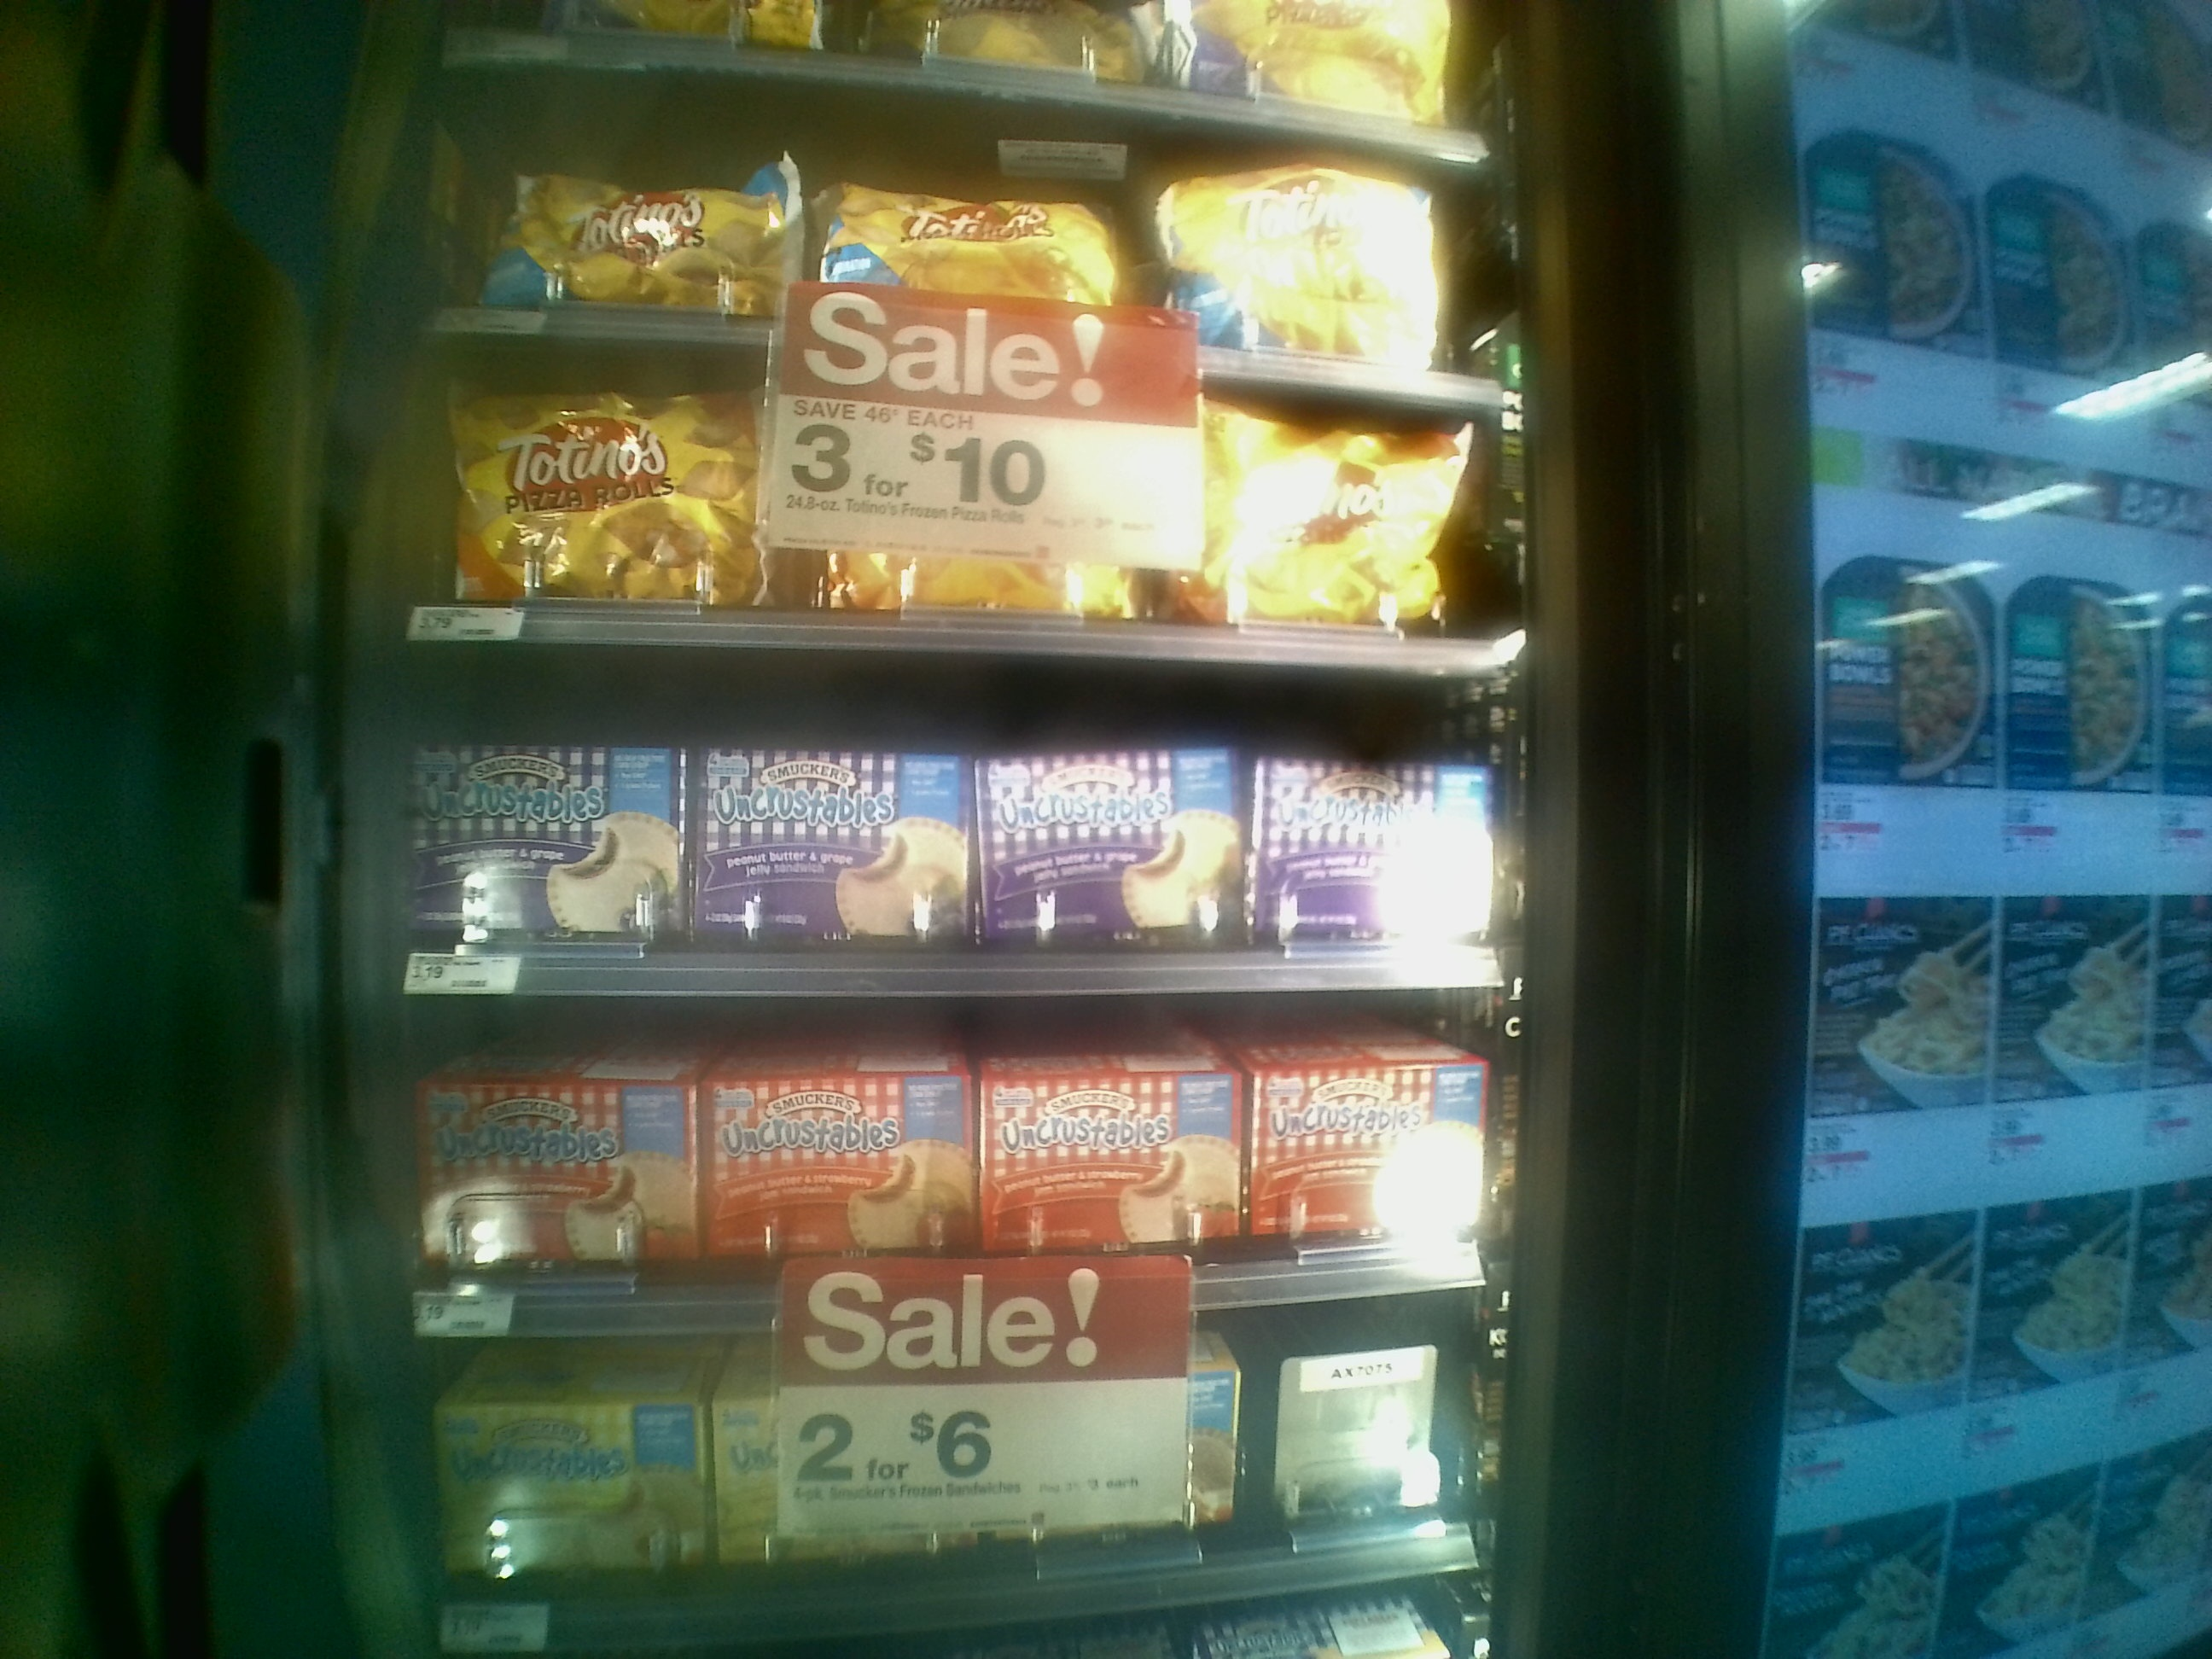shelf: (371, 310, 1514, 688), (368, 652, 1522, 999), (366, 993, 1501, 1317), (368, 1326, 1477, 1603)
